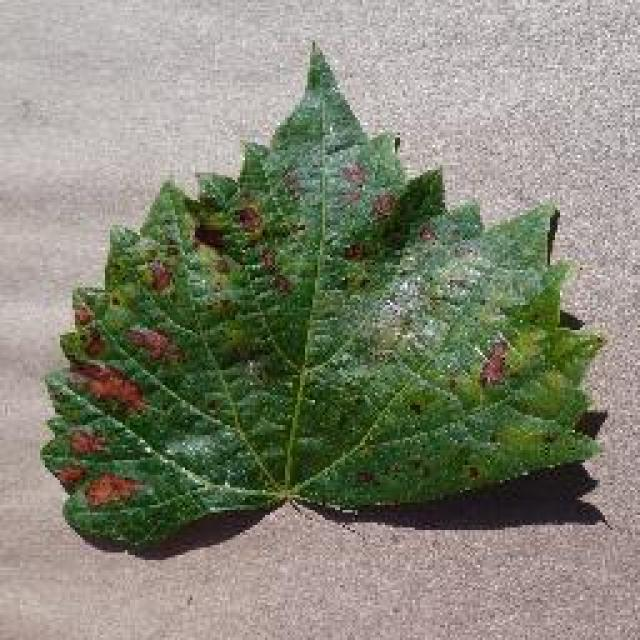Black_Measles: (32, 37, 635, 547)
